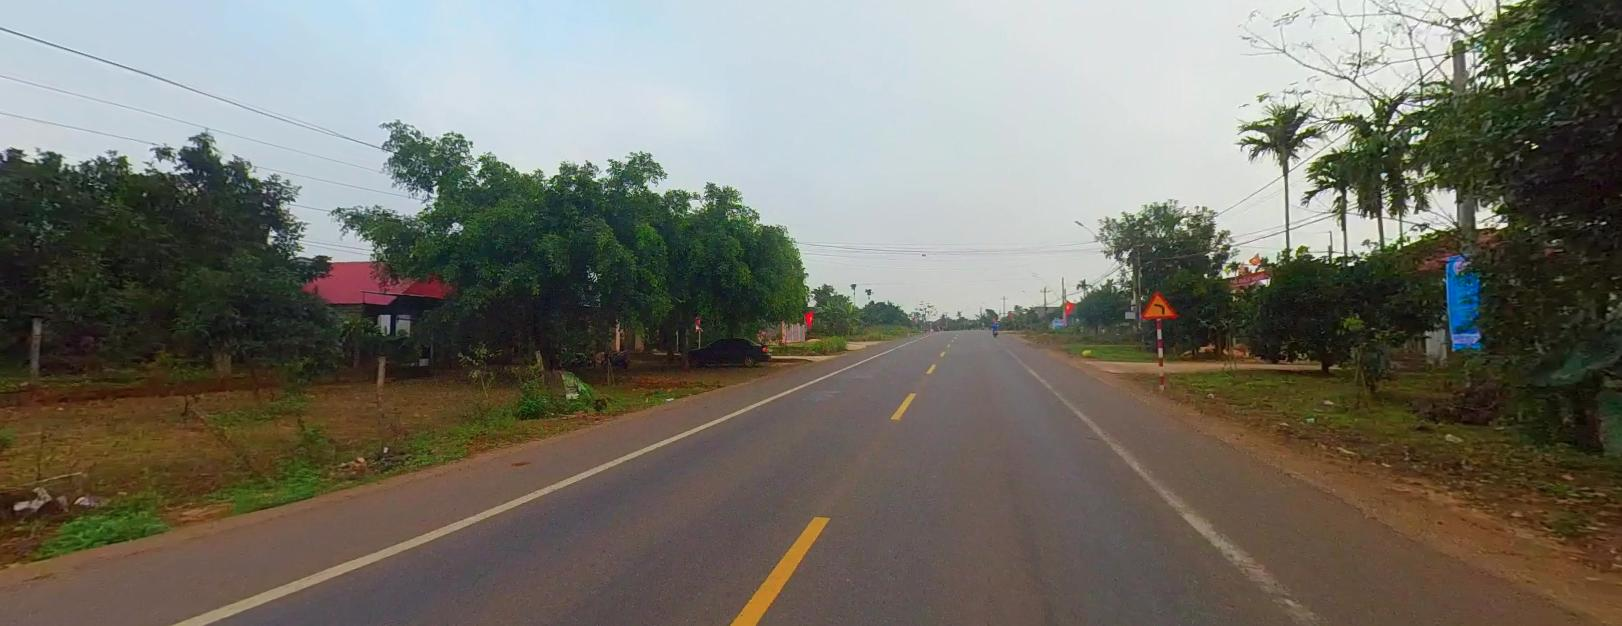Nguy hiem: (1138, 289, 1180, 321)
